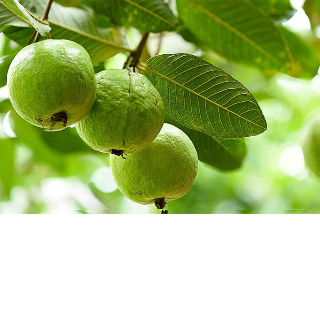oi: (5, 36, 98, 133), (75, 67, 166, 158), (108, 119, 201, 208)
